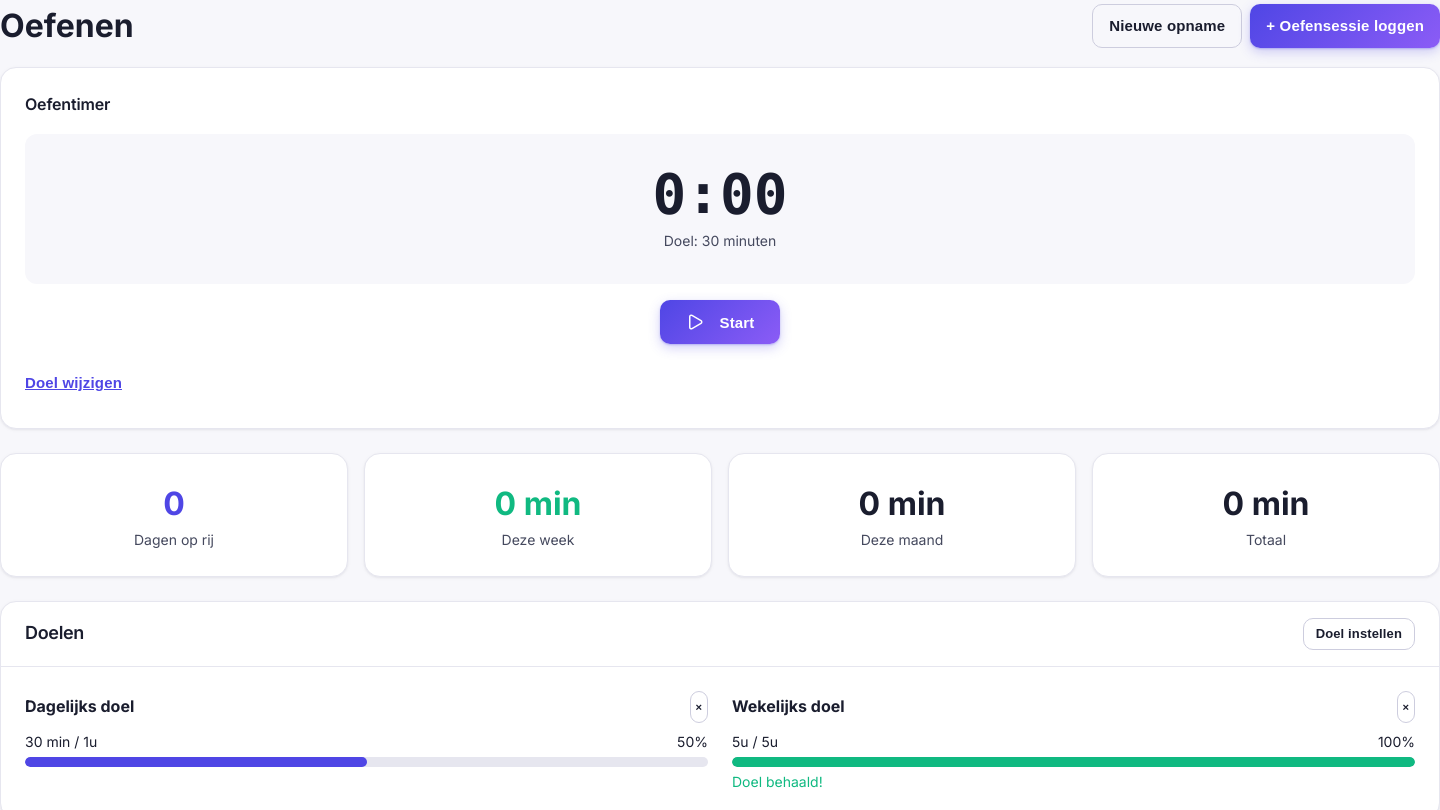
it: Practice: doelen › verwijdert een doel na bevestiging
What coordinates should you click on to do the following:
click the button "×" in the row of "Dagelijks doel"
I would click on:
 (699, 707)
Its box is top-left (690, 691), bottom-right (708, 723).
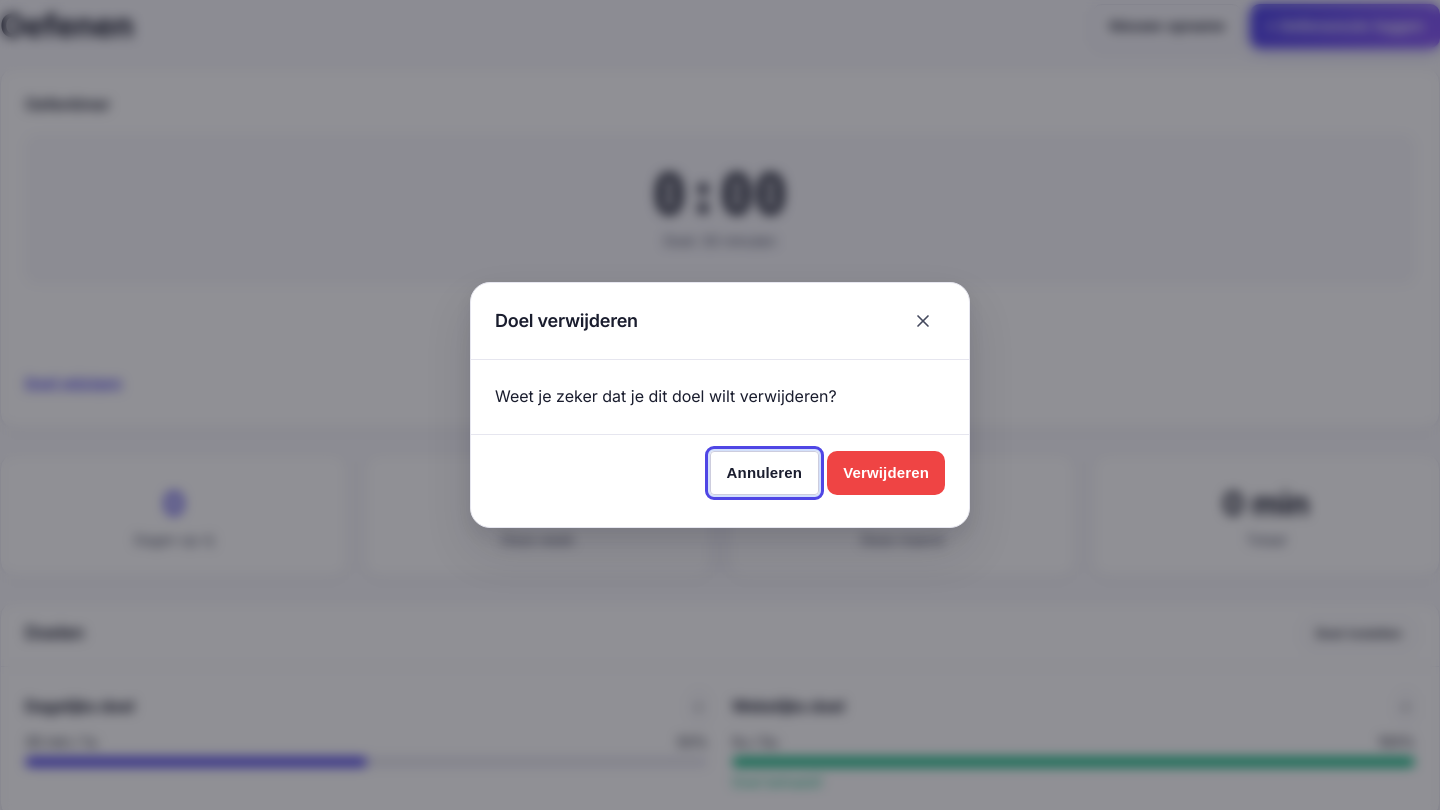
Now the heading "Doel verwijderen" is shown, box top-left (495, 307), bottom-right (638, 336)
What coordinates should you click on to do the following:
click the button "Verwijderen"
I would click on:
 (886, 473)
Its box is top-left (827, 451), bottom-right (945, 495).
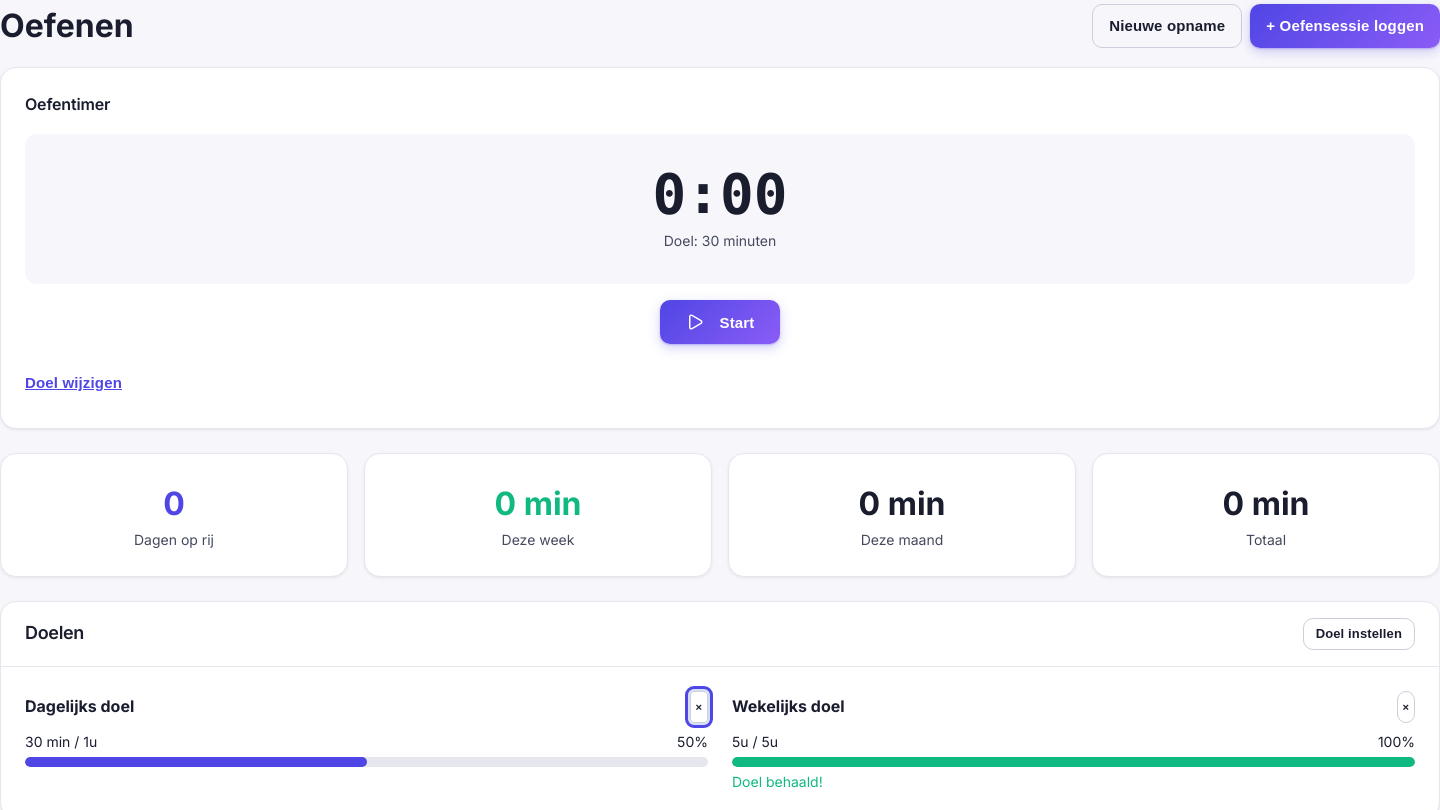
Now the dialog is gone
